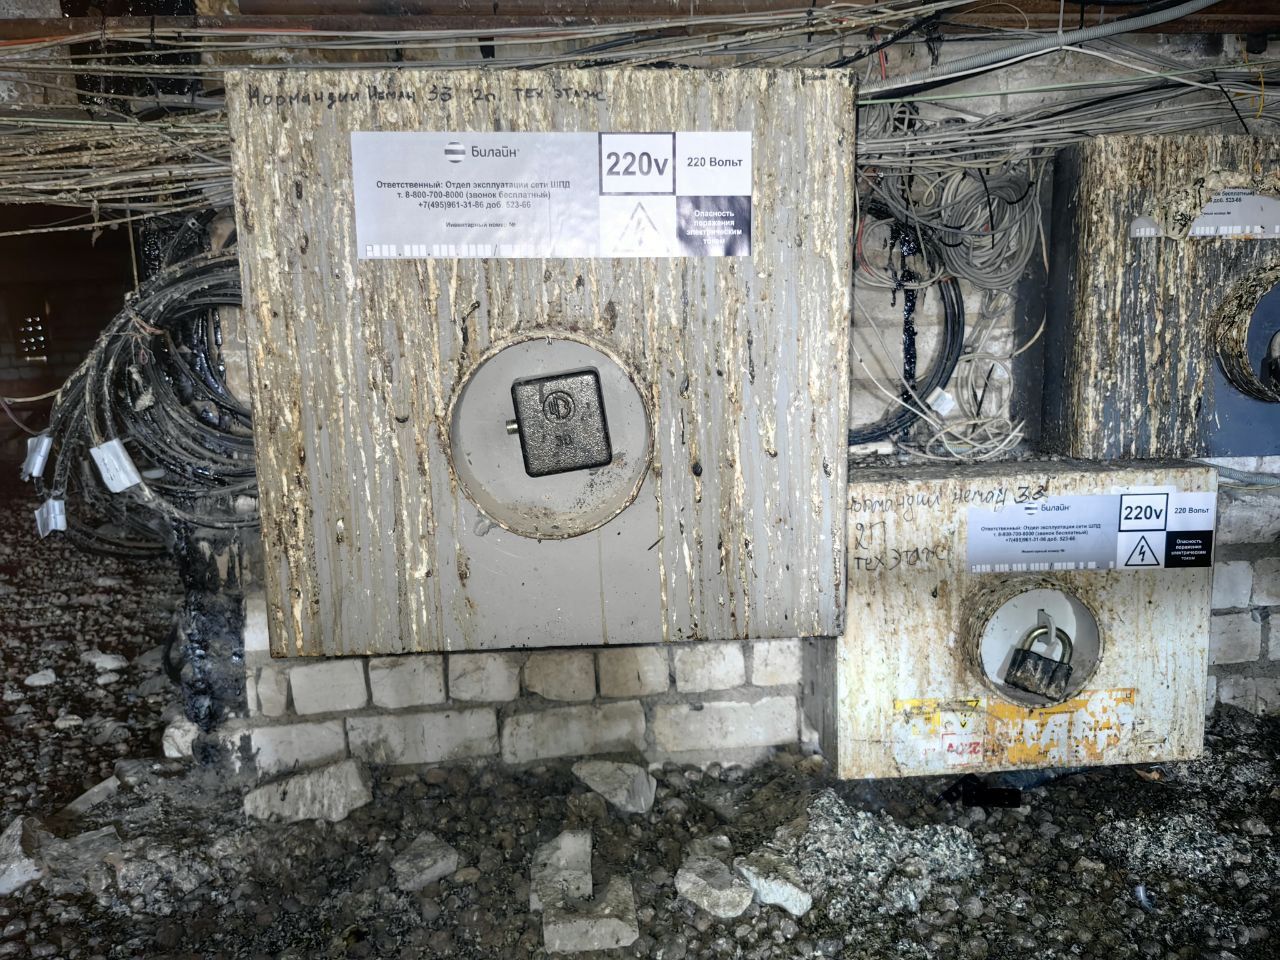shta-3: (831, 461, 1225, 781), (1059, 131, 1276, 457)
shta-9: (215, 63, 864, 662)
